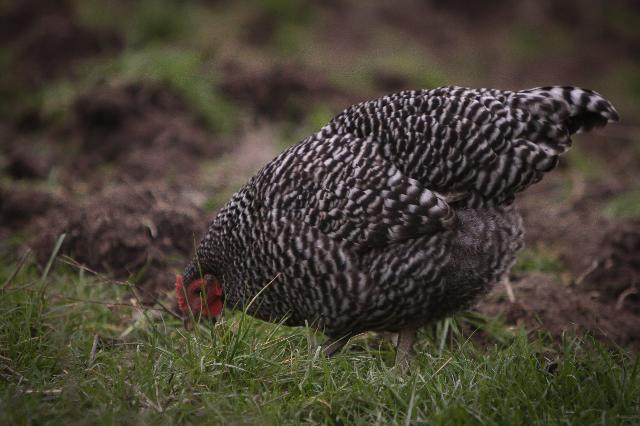Chicken: (173, 85, 621, 373)
